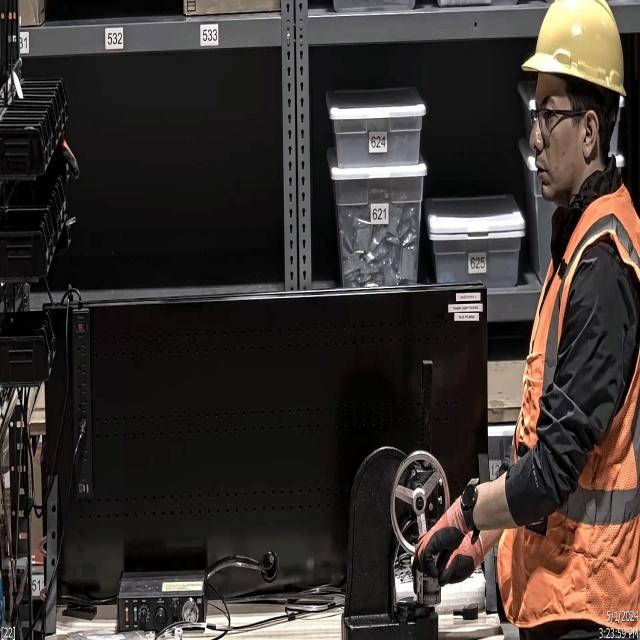gloves: (411, 486, 475, 578)
